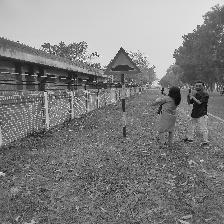Speed-breaker: (102, 44, 147, 75)
